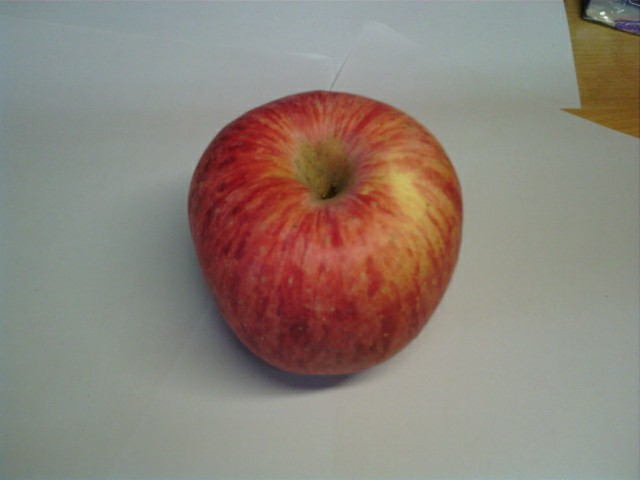normal_apple: (189, 89, 462, 377)
